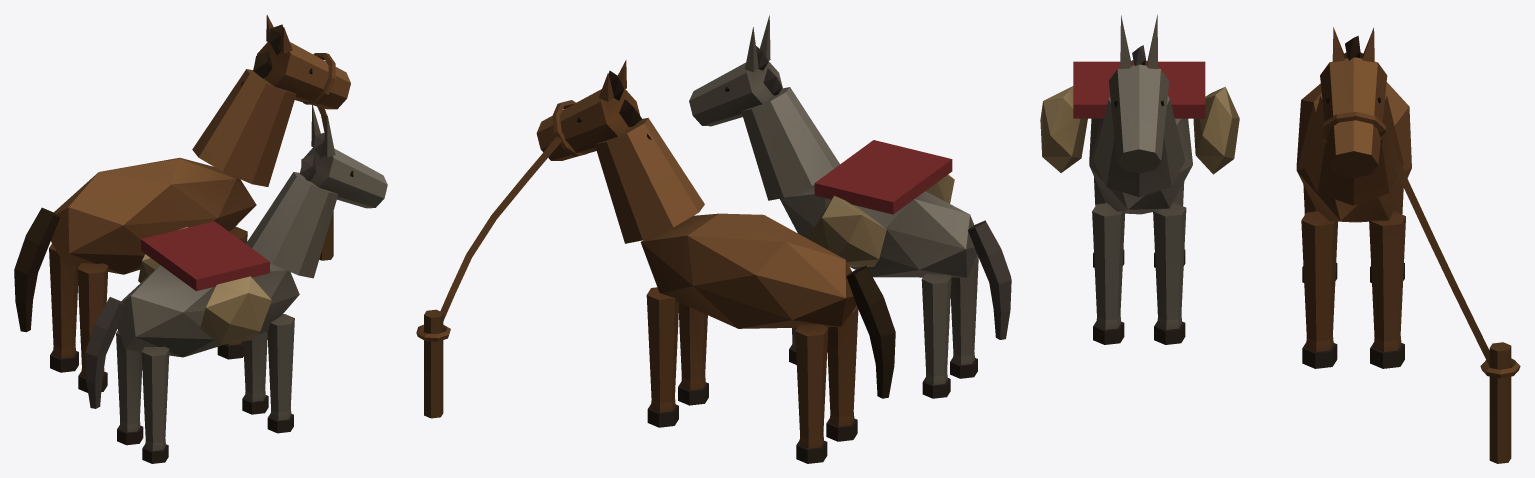
3 renders of one model, left to right at view 1: azimuth 30°, elevation 25°; view 2: azimuth 150°, elevation 25°; view 3: azimuth 270°, elevation 25°, orthographic. The views are drawn at different scales.
Visible parts, largest first — view 1: base; view 2: base; view 3: base.
Boxes of the visible parts, <box> form: base: <box>14,15,387,463</box>; base: <box>416,15,1011,463</box>; base: <box>1040,14,1520,463</box>.
Bounding box in the file's own units: 0.4945 × 0.36 × 0.4254.
